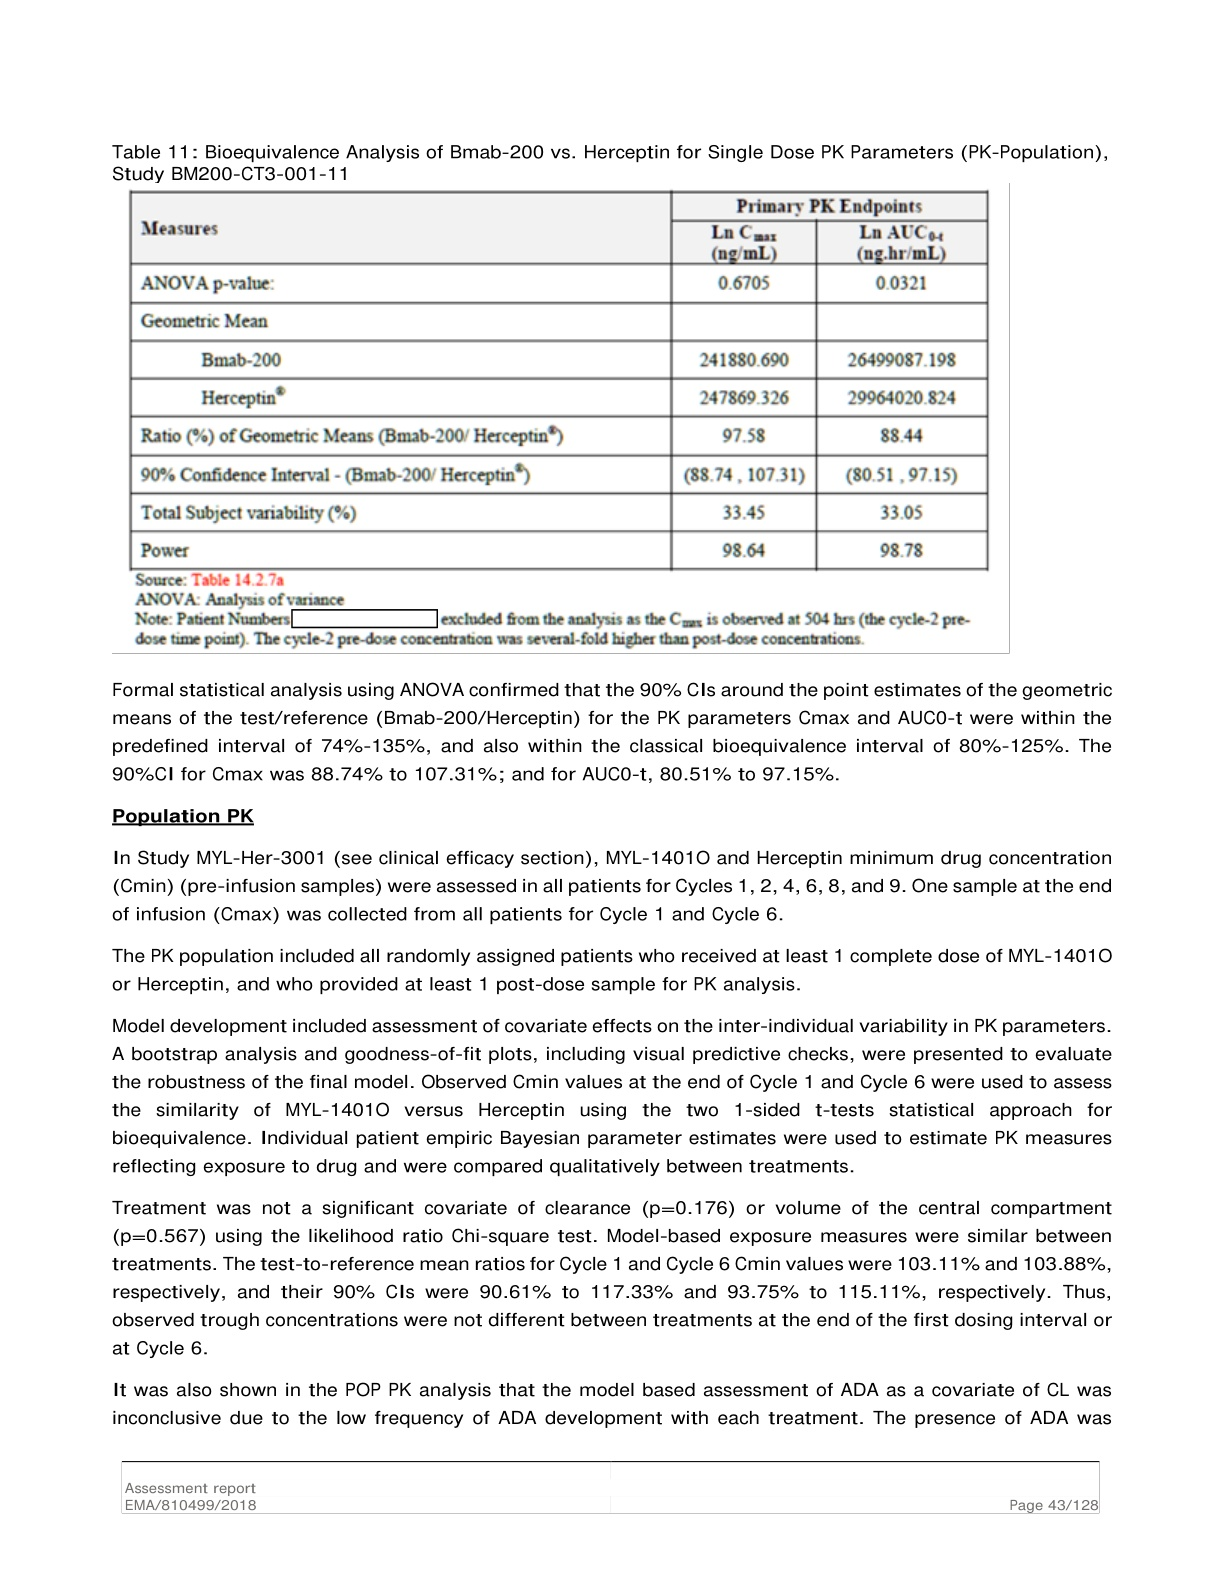merged_cells: (129, 189, 989, 570)
